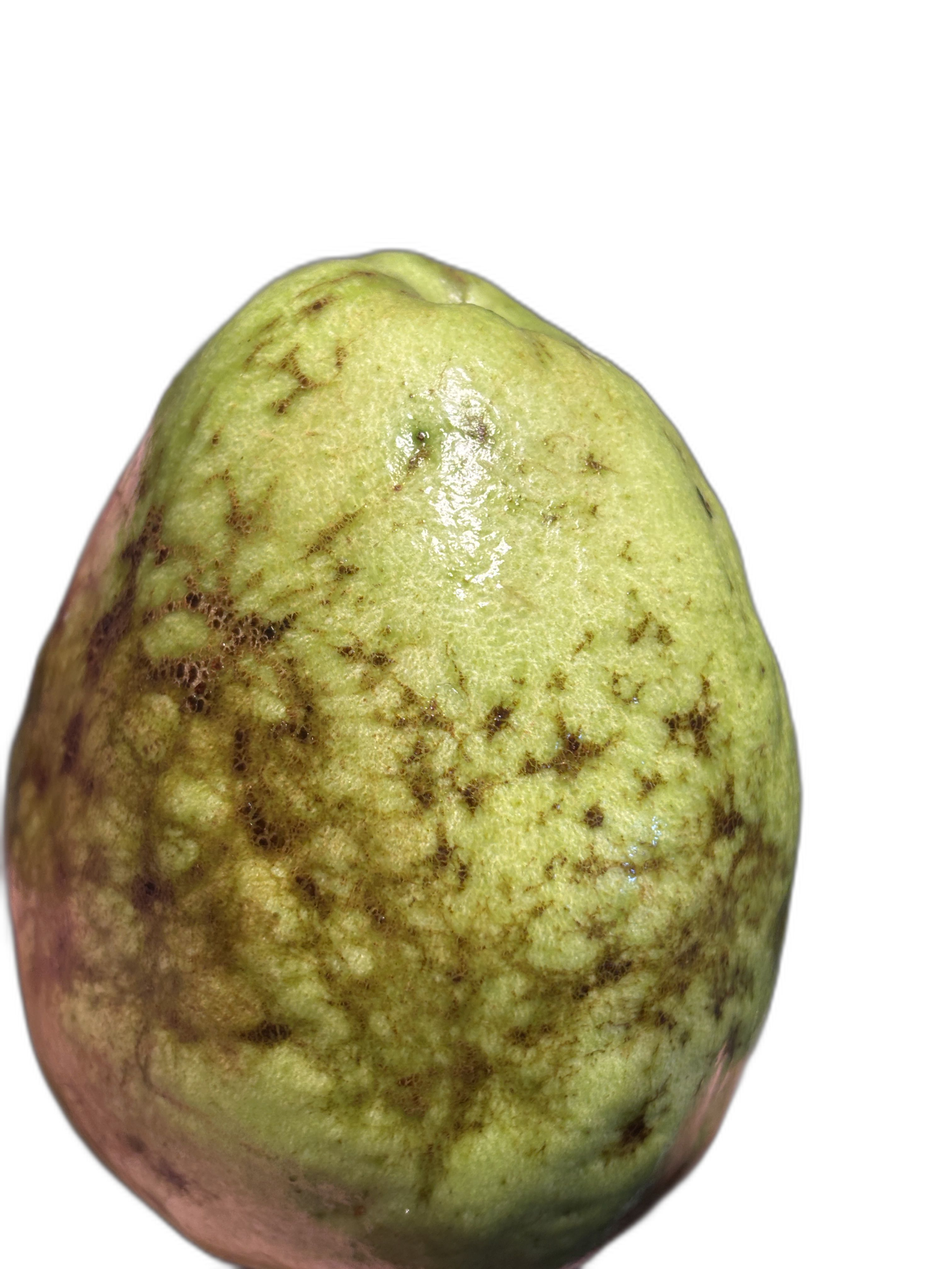guava: (71, 241, 823, 1057)
